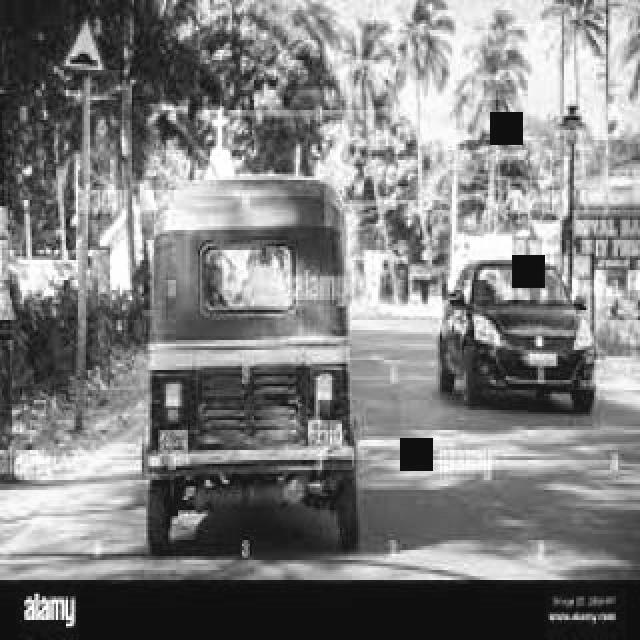Auto-Rickshaw: (136, 170, 372, 558)
Car: (442, 244, 612, 424)
